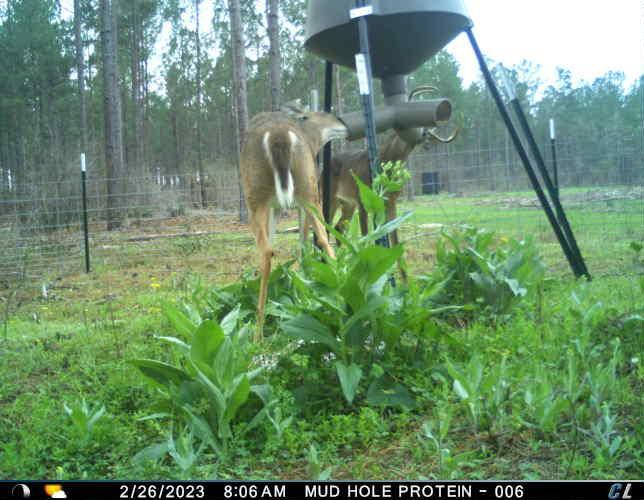Deer: (237, 98, 351, 344), (319, 82, 461, 254)
